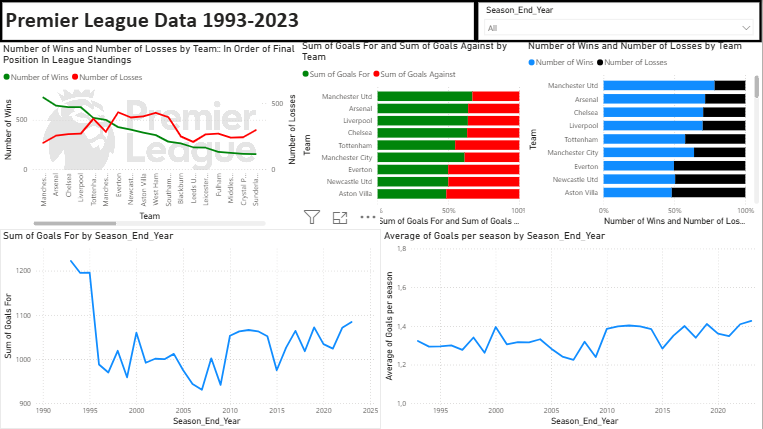

The page's visual inventory and layout, read from the dashboard file:
{"tool":"powerbi","page":{"name":"Home Page","canvas":[1280,720],"ordinal":0},"visuals":[{"type":"lineChart","title":"Number of Wins and Number of Losses by Team:: In Order of Final Position In League Standings","fields":{"Category":["premier-league-tables.Team"],"Y":["Sum(premier-league-tables.Wins)"],"Y2":["Sum(premier-league-tables.Losses)"]},"box":[0,70.6,502.3,314.1],"z":0},{"type":"hundredPercentStackedBarChart","fields":{"Category":["premier-league-tables.Team"],"Y":["Sum(premier-league-tables.Goals For)","Sum(premier-league-tables.Goals Against)"]},"box":[502.3,65.5,398.1,319.2],"z":1},{"type":"hundredPercentStackedBarChart","fields":{"Category":["premier-league-tables.Team"],"Y":["Sum(premier-league-tables.Wins)","Sum(premier-league-tables.Losses)"]},"box":[881.9,65.5,398.1,319.2],"z":2},{"type":"lineChart","fields":{"Category":["premier-league-tables.Season_End_Year"],"Y":["Sum(premier-league-tables.Goals For)"]},"box":[0,384.7,640,336],"z":3},{"type":"lineChart","fields":{"Category":["premier-league-tables.Season_End_Year"],"Y":["Avg(premier-league-tables.Goals per season)"]},"box":[640,384.7,640,336],"z":4},{"type":"textbox","box":[0,0,799.6,70.6],"z":5},{"type":"slicer","fields":{"Values":["premier-league-tables.Season_End_Year"]},"box":[799.6,0,480.4,70.6],"z":6}]}

Visuals, with their boxes in screenshot pixels (x1, y1, x2, y2), scaled from the page's 1280x720 canvas onto the 763x429 screenshot:
"Number of Wins and Number of Losses by Team:: In Order of Final Position In League Standings" lineChart: crop(0, 42, 299, 229)
hundredPercentStackedBarChart - premier-league-tables.Team x Sum(premier-league-tables.Goals For): crop(299, 39, 537, 229)
hundredPercentStackedBarChart - premier-league-tables.Team x Sum(premier-league-tables.Wins): crop(526, 39, 762, 229)
lineChart - premier-league-tables.Season_End_Year x Sum(premier-league-tables.Goals For): crop(0, 229, 382, 428)
lineChart - premier-league-tables.Season_End_Year x Avg(premier-league-tables.Goals per season): crop(382, 229, 762, 428)
textbox: crop(0, 0, 477, 42)
slicer - premier-league-tables.Season_End_Year: crop(477, 0, 762, 42)
